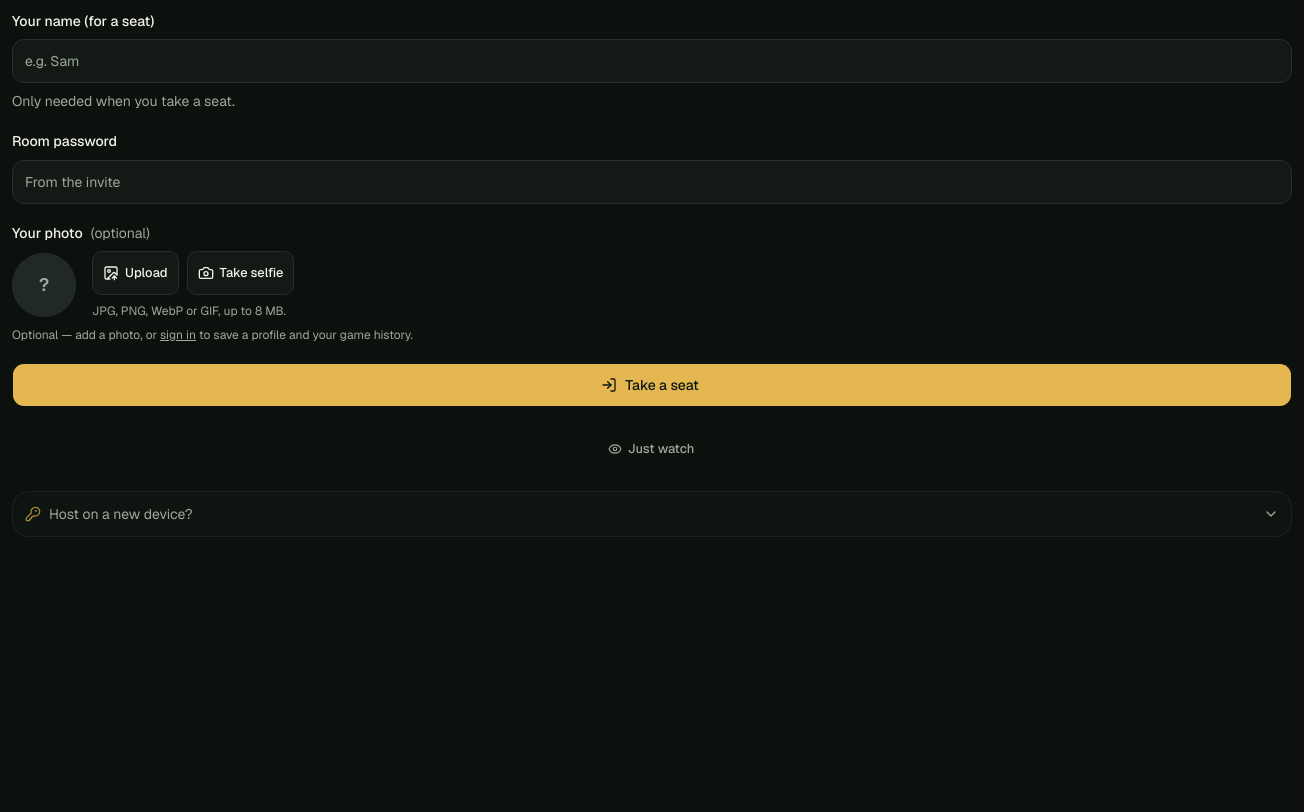
it: JoinRoomForm › keeps a refused recovery neutral and focuses the shared error
Step 1. Type "secret" into the password field labelled "Room password" → (652, 182), box [12,160,1292,204]
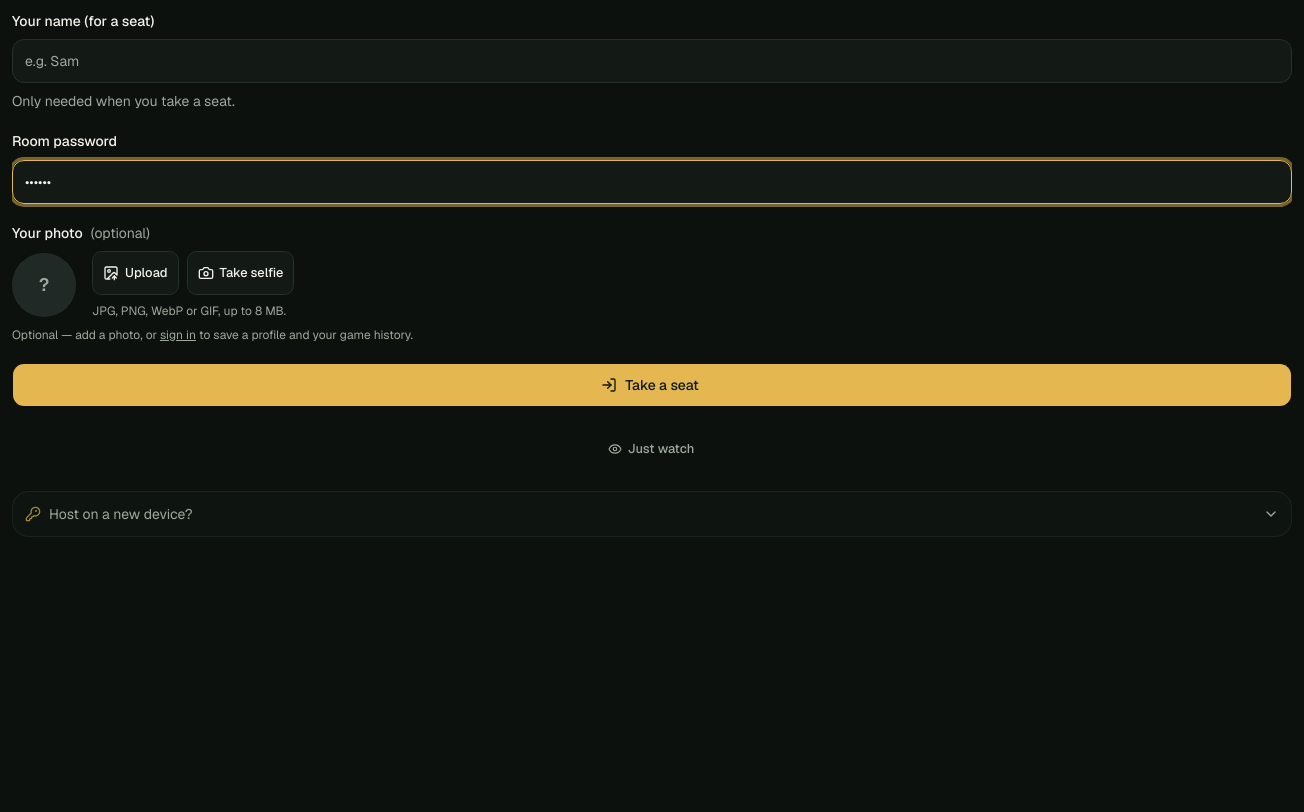
Step 2. Click the heading "Host on a new device?" → (121, 514), box [25,505,1279,523]
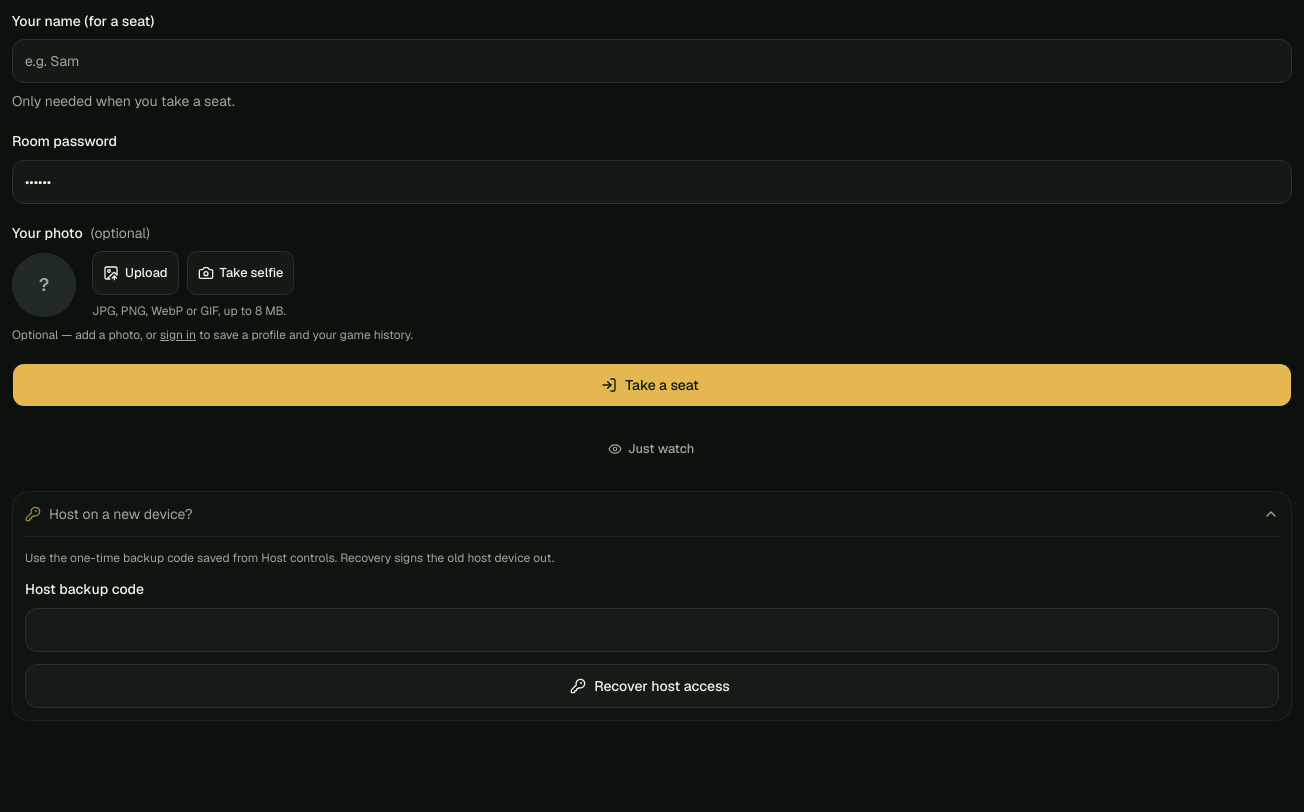
Step 3. Type "wrong-backup-code" into the field labelled "Host backup code" → (652, 630), box [25,608,1279,652]
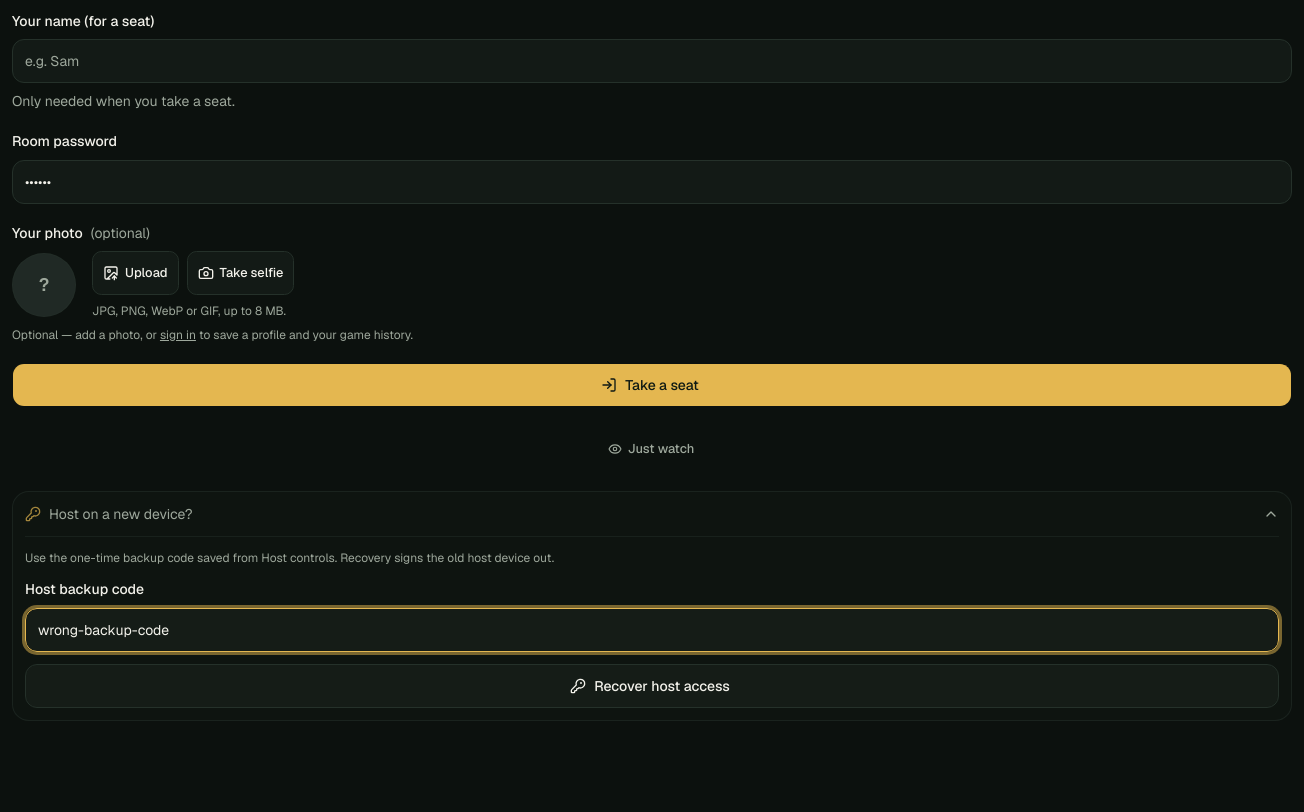
Step 4. Click the button "Recover host access" → (652, 686), box [25,664,1279,708]
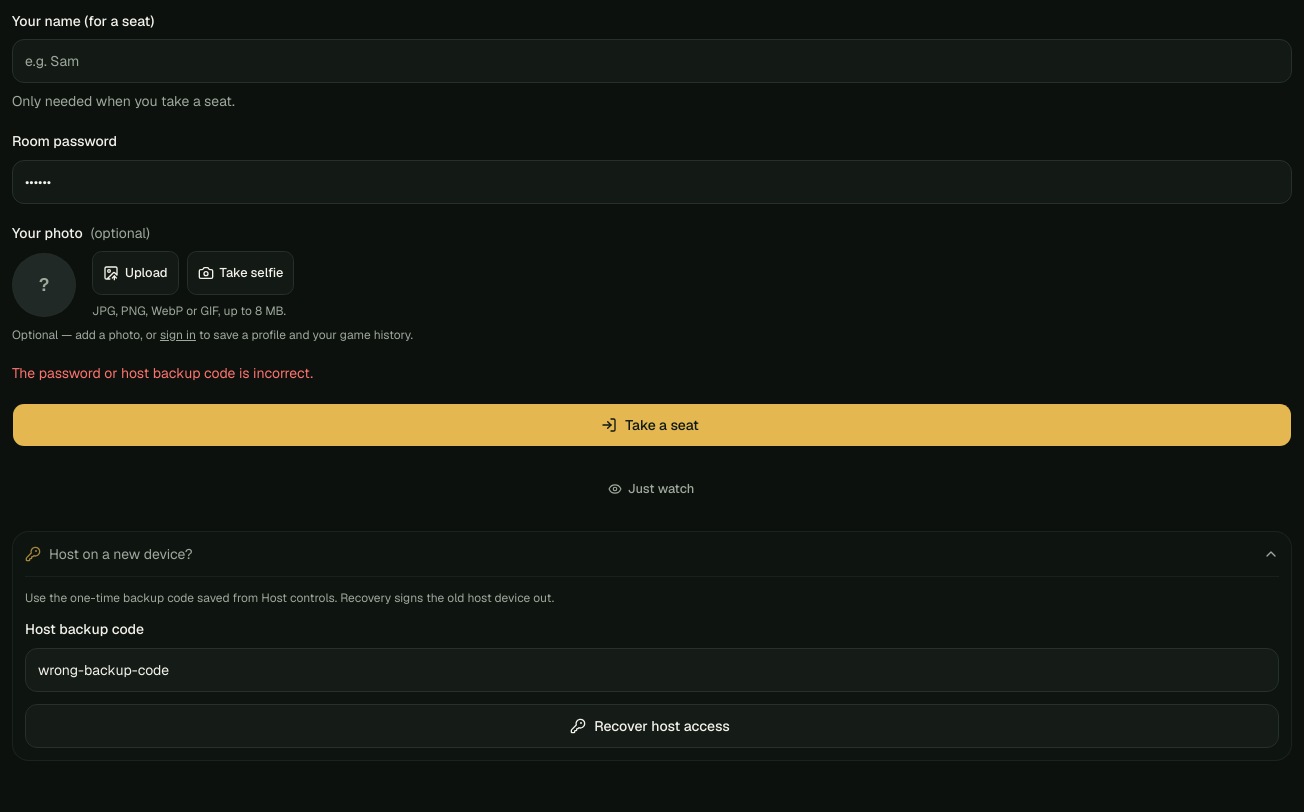
Now the message shows "password or host backup code", box [12,364,313,382]
